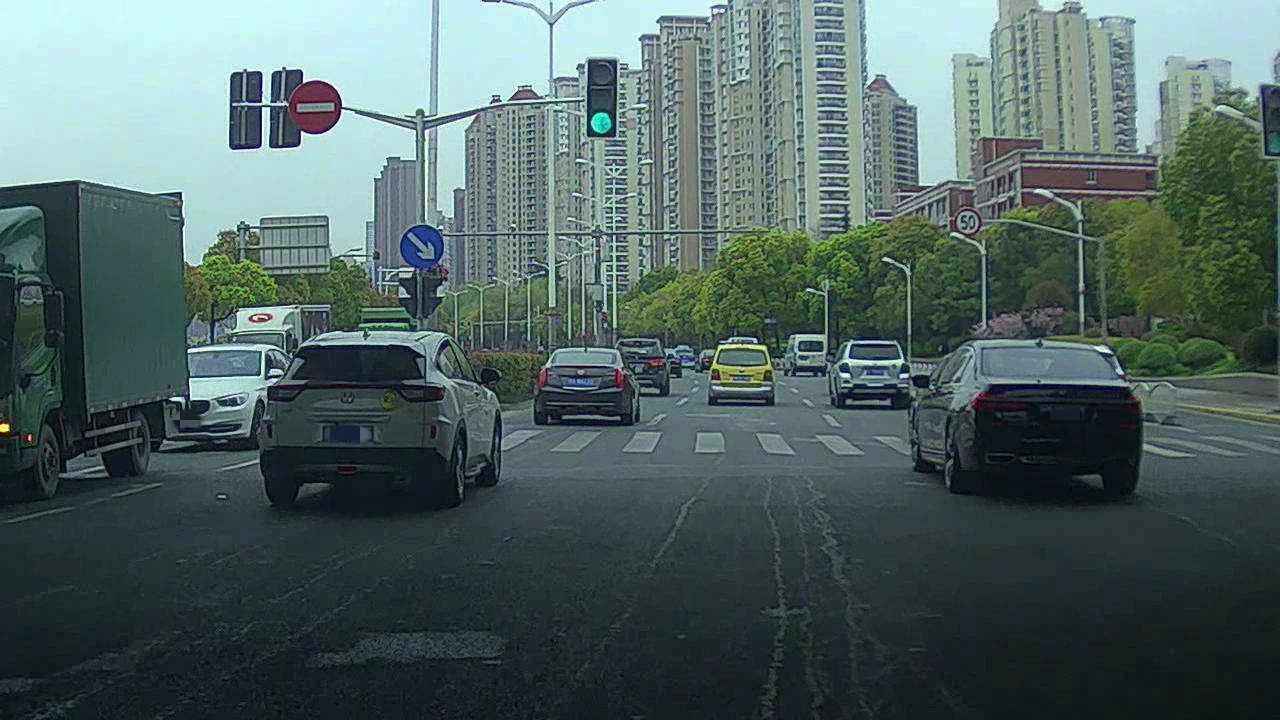traffic_light: (587, 59, 618, 136)
